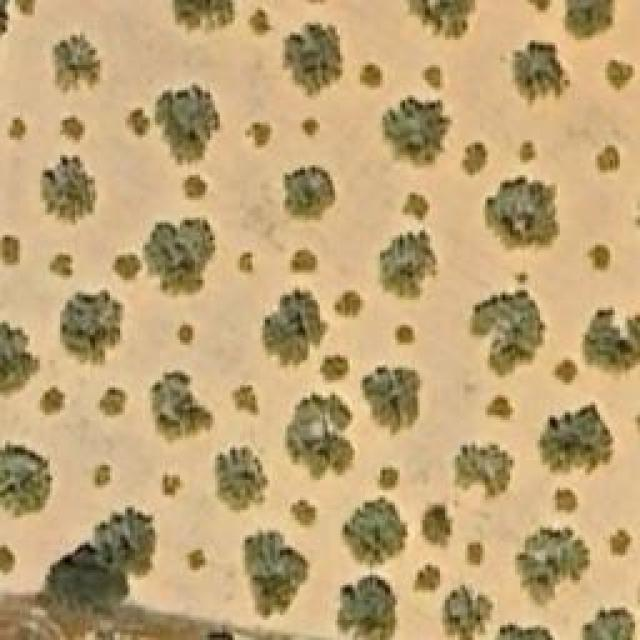Tree: (470, 290, 548, 380), (243, 530, 313, 620), (43, 540, 123, 618), (518, 527, 591, 605), (378, 95, 453, 168), (485, 178, 558, 253), (155, 85, 223, 163), (145, 220, 213, 298), (540, 403, 613, 473), (60, 290, 125, 368), (290, 397, 353, 475), (378, 228, 443, 301), (360, 365, 423, 440), (150, 373, 215, 443), (260, 287, 325, 355), (100, 505, 163, 573), (40, 155, 98, 228), (285, 23, 343, 96), (343, 498, 408, 561), (0, 440, 52, 517), (582, 305, 640, 373), (512, 40, 570, 108), (455, 443, 515, 506), (337, 577, 397, 640), (53, 33, 106, 96), (215, 448, 268, 511), (0, 318, 40, 398), (405, 0, 478, 40), (283, 165, 336, 218), (443, 585, 493, 640), (173, 0, 238, 35), (565, 0, 615, 40), (580, 607, 640, 640), (418, 500, 453, 553), (493, 622, 558, 640), (460, 140, 488, 178), (335, 290, 368, 320), (110, 250, 143, 280), (605, 60, 633, 95), (37, 385, 65, 418), (232, 385, 260, 418), (98, 388, 128, 418), (402, 193, 430, 223), (290, 498, 318, 528), (413, 565, 443, 593), (47, 252, 75, 280), (245, 122, 273, 150), (180, 175, 208, 203), (485, 395, 513, 423), (248, 8, 273, 38), (595, 145, 620, 175), (125, 108, 150, 138), (290, 248, 318, 273), (358, 62, 383, 90), (553, 357, 578, 385), (323, 350, 346, 380), (0, 235, 20, 268), (423, 65, 446, 93), (610, 530, 633, 558), (60, 118, 85, 143), (553, 488, 578, 513), (588, 245, 611, 270), (238, 252, 258, 280), (160, 473, 183, 496), (378, 468, 401, 491), (8, 118, 28, 143), (518, 140, 538, 165), (93, 463, 113, 488), (0, 543, 15, 576), (300, 118, 320, 141), (393, 325, 416, 345), (177, 323, 195, 348), (468, 543, 483, 568), (187, 550, 205, 570)
